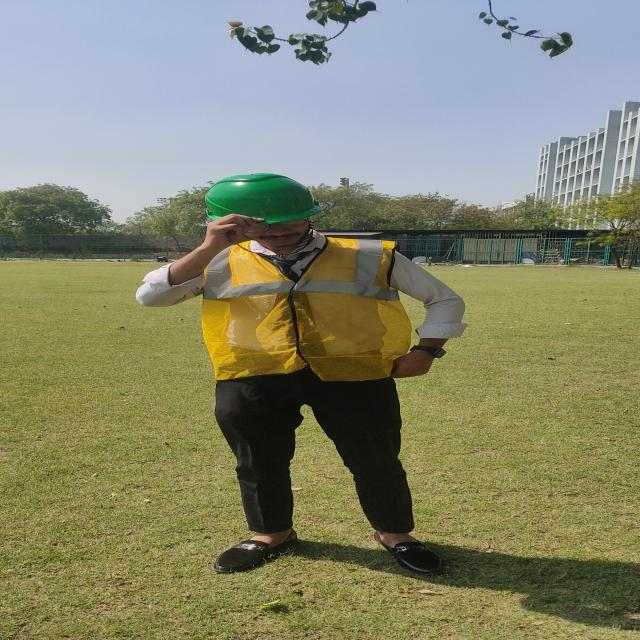safe: (141, 173, 462, 572)
